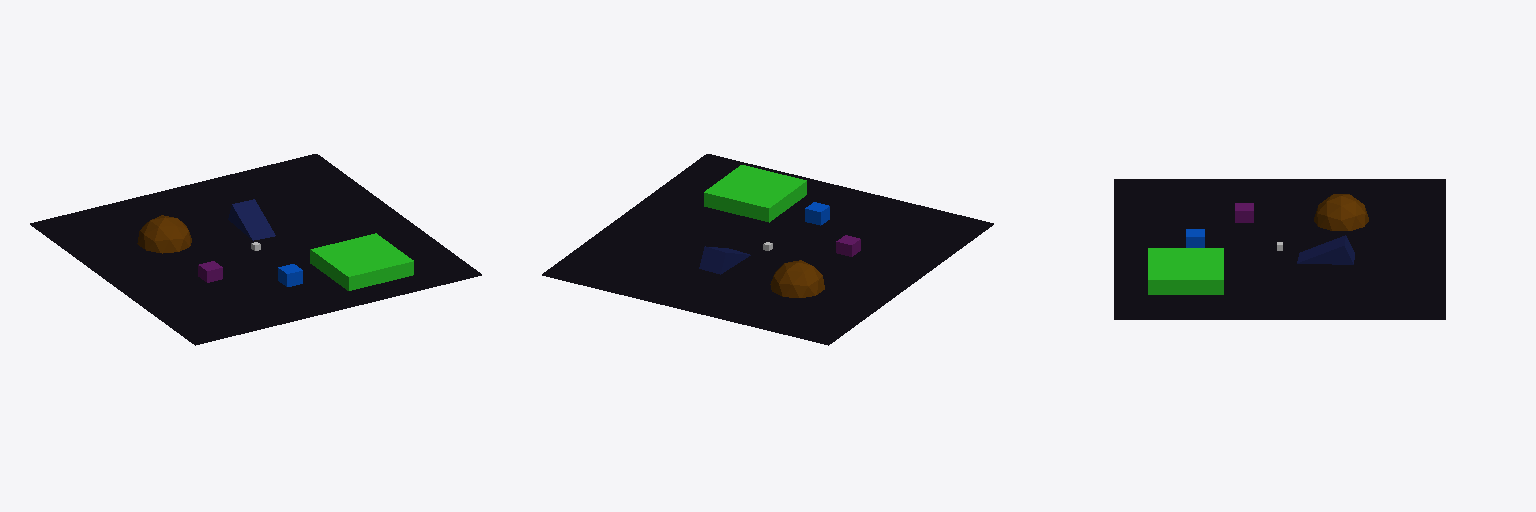
The model's file is map5.obj.
3 views of the same model, side by side, from view 1: azimuth 30°, elevation 25°; view 2: azimuth 150°, elevation 25°; view 3: azimuth 270°, elevation 25° (orthographic).
Visible parts, largest first — view 1: Plane, Cube.004, Icosphere, Cube.003; view 2: Plane, Cube.004, Icosphere, Cube.003; view 3: Plane, Cube.004, Icosphere, Cube.003.
Part boxes in pixels (left/top/right/bottom): Plane: left=30, top=154, right=481, bottom=345; Cube.004: left=310, top=233, right=413, bottom=290; Icosphere: left=137, top=215, right=191, bottom=253; Cube.003: left=228, top=199, right=275, bottom=240; Plane: left=542, top=154, right=993, bottom=345; Cube.004: left=704, top=165, right=806, bottom=222; Icosphere: left=770, top=260, right=824, bottom=297; Cube.003: left=699, top=246, right=750, bottom=274; Plane: left=1114, top=179, right=1445, bottom=319; Cube.004: left=1148, top=248, right=1223, bottom=294; Icosphere: left=1314, top=194, right=1368, bottom=230; Cube.003: left=1297, top=235, right=1354, bottom=264.
Size of the model in its own units: 100 by 20.42 by 100.